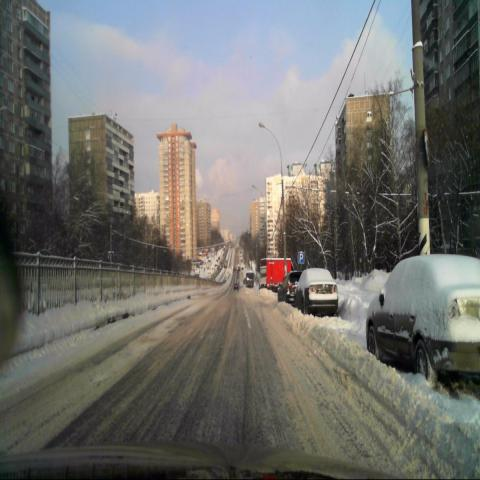6_4: (297, 252, 305, 266)
